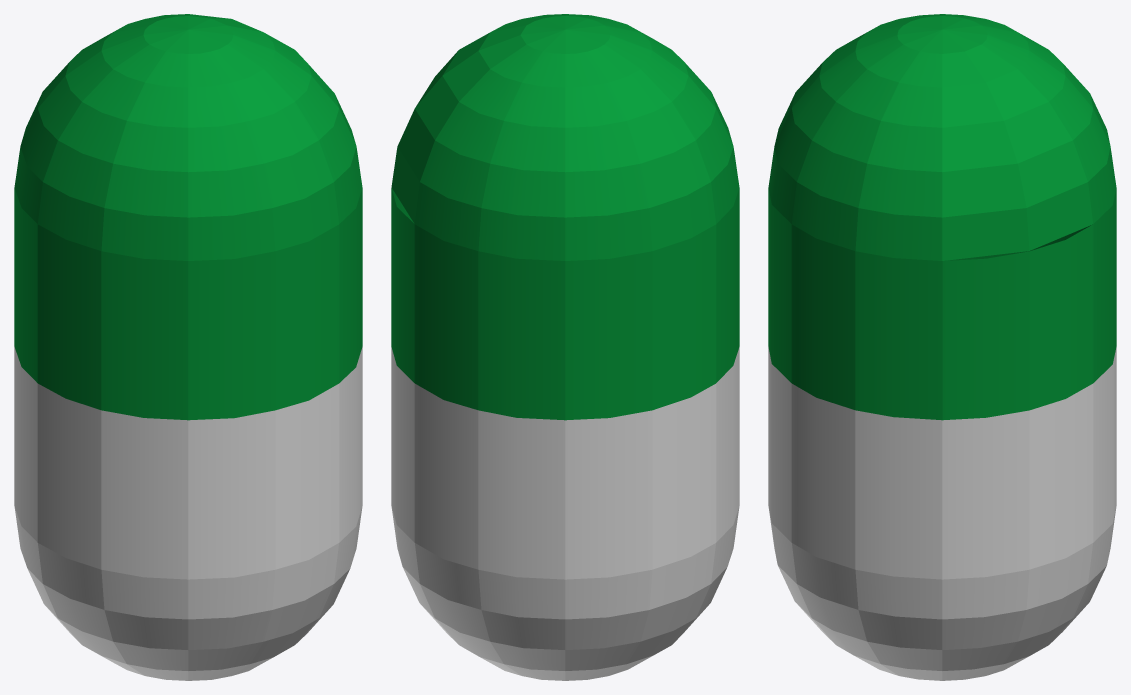
File: Green Pill.fbx
The picture shows the model from 3 angles, left to right: view 1: azimuth 30°, elevation 25°; view 2: azimuth 150°, elevation 25°; view 3: azimuth 270°, elevation 25°; orthographic projection.
Parts seen in each view (by area): view 1: pSphere7; view 2: pSphere7; view 3: pSphere7.
Boxes of the visible parts, left/top/right/bottom form: pSphere7: left=14, top=14, right=362, bottom=680; pSphere7: left=391, top=14, right=739, bottom=680; pSphere7: left=768, top=14, right=1116, bottom=680.
Size of the model in its own units: 3.91 by 7.88 by 3.91.
